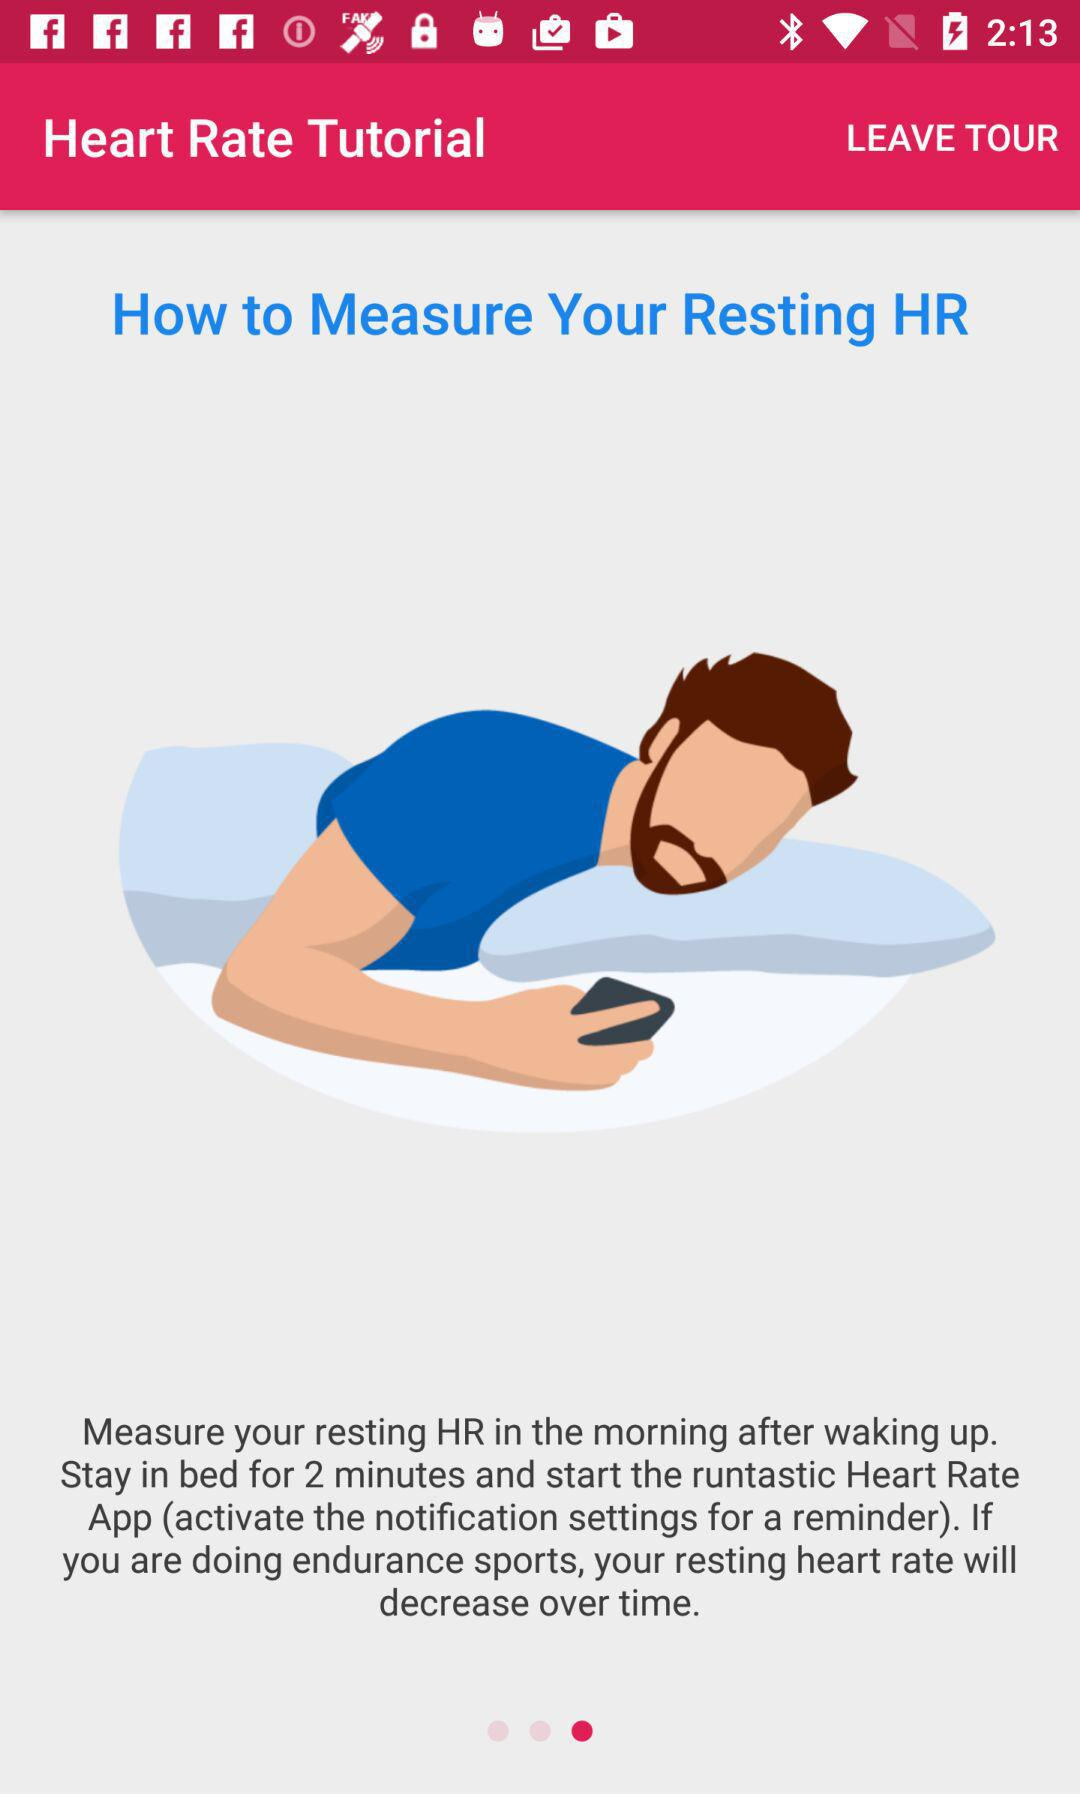Image: (118, 648, 995, 1139)
PageIndicator: (486, 1718, 594, 1743)
Text: (61, 1415, 1021, 1617), (115, 292, 969, 349), (46, 117, 486, 161), (847, 124, 1060, 154)
Toolbar: (1, 67, 1080, 211)
UpperTaskBar: (1, 1, 1080, 64)
